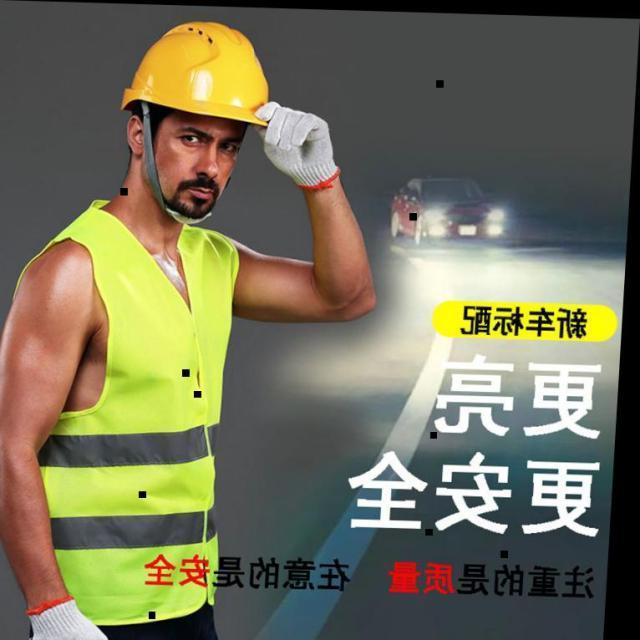safety_helmet: (34, 220, 238, 623)
